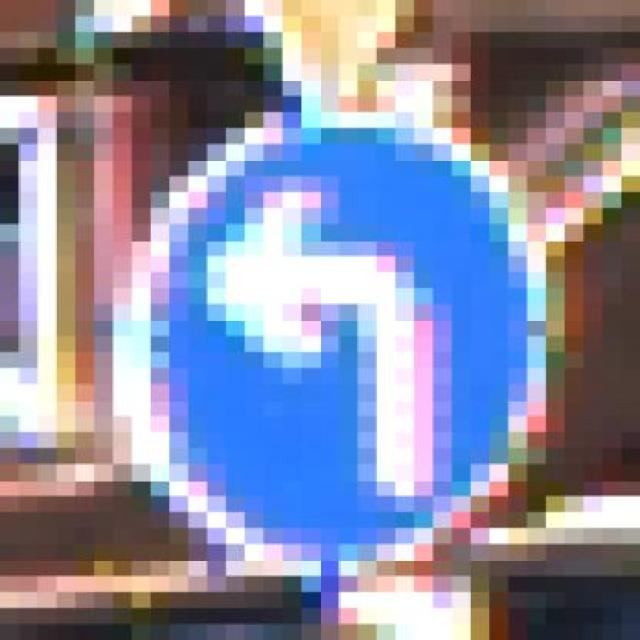Turn left ahead: (75, 95, 583, 592)
